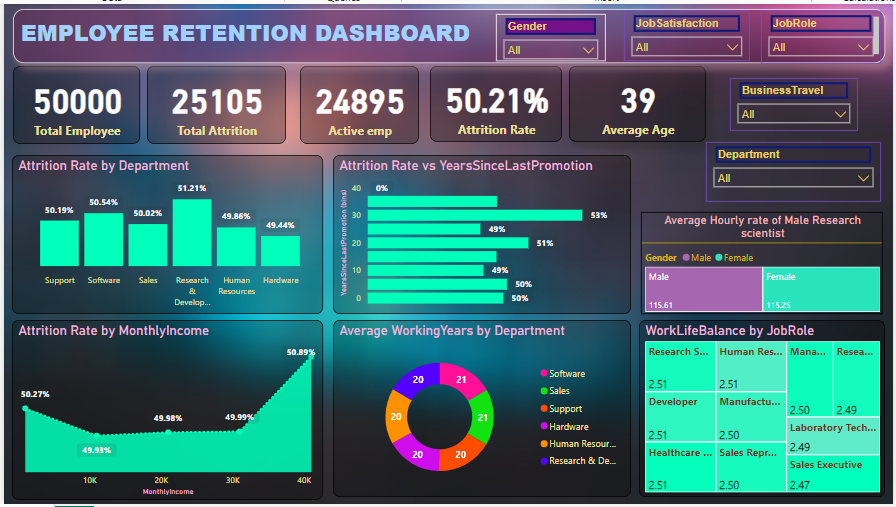

The dashboard page shown, as its layout file describes it:
{"tool":"tableau","page":{"name":"Dashboard 1","canvas":[1000,1000],"units":"permille","ordinal":0},"visuals":[{"type":"image","param":"Image/human-resource-management-system-business-company-employer-branding-dashbo","box":[4.2,7.7,179.8,105.9]},{"type":"text","box":[184,7.7,564,105.9]},{"type":"blank","box":[747.9,7.7,247.9,105.9]},{"type":"dashboard-object","box":[928.6,11.2,52.2,98]},{"type":"filter","title":"Average Hourly Rate","param":"[federated.01sc40x1sqb4vv149uidj0epj5h5].[none:BusinessTravel:nk]","box":[880.1,40.9,99.4,96.8]},{"type":"worksheet","title":"KPI","mark":"Automatic","box":[4.2,113.6,991.7,87.9]},{"type":"filter","title":"Average Hourly Rate","param":"[federated.01sc40x1sqb4vv149uidj0epj5h5].[none:Gender:nk]","box":[880.1,137.7,99.4,96.8]},{"type":"worksheet","title":"Average Attrition rate for all Departments ","mark":"Automatic","rows":["Department"],"cols":["Calculation_787004087355998209"],"box":[4.2,201.6,290.1,410.6]},{"type":"worksheet","title":"Average Hourly Rate","mark":"Pie","rows":["HourlyRate","HourlyRate"],"cols":["Gender"],"box":[294.3,201.6,193.2,410.6]},{"type":"worksheet","title":"Attrition Rate Vs Years Since last promotion","mark":"Automatic","rows":["Calculation_787004087355998209","Calculation_787004087355998209"],"cols":["Calculation_787004087366479879"],"box":[487.5,201.6,508.3,410.6]},{"type":"filter","title":"Average Hourly Rate","param":"[federated.01sc40x1sqb4vv149uidj0epj5h5].[none:JobRole:nk]","box":[880.1,234.5,99.4,96.8]},{"type":"worksheet","title":"Average working years for each Department","mark":"Automatic","rows":["TotalWorkingYears"],"cols":["Department"],"box":[4.2,612.1,335.3,380.1]},{"type":"worksheet","title":"Attrition rate Vs Monthly Income","mark":"Automatic","box":[339.5,612.1,221.3,380.1]},{"type":"worksheet","title":"Job Role Vs Work life Balance","mark":"Automatic","rows":["JobRole"],"cols":["Calculation_787004087364804612"],"box":[560.8,612.1,435,380.1]}]}

Visuals, with their boxes on the dashboard's canvas, which has no fixed pixel size, in thousandths of its width and height (x1, y1, x2, y2). These are canvas units, not pixel positions in the 896x507 screenshot, which may show the page scaled, cropped or inside an application window:
image: <region>4, 8, 184, 114</region>
text: <region>184, 8, 748, 114</region>
blank: <region>748, 8, 996, 114</region>
dashboard-object: <region>929, 11, 981, 109</region>
"Average Hourly Rate" filter: <region>880, 41, 980, 138</region>
"KPI" worksheet: <region>4, 114, 996, 202</region>
"Average Hourly Rate" filter: <region>880, 138, 980, 234</region>
"Average Attrition rate for all Departments " worksheet: <region>4, 202, 294, 612</region>
"Average Hourly Rate" worksheet (Pie marks): <region>294, 202, 488, 612</region>
"Attrition Rate Vs Years Since last promotion" worksheet: <region>488, 202, 996, 612</region>
"Average Hourly Rate" filter: <region>880, 234, 980, 331</region>
"Average working years for each Department" worksheet: <region>4, 612, 340, 992</region>
"Attrition rate Vs Monthly Income" worksheet: <region>340, 612, 561, 992</region>
"Job Role Vs Work life Balance" worksheet: <region>561, 612, 996, 992</region>
